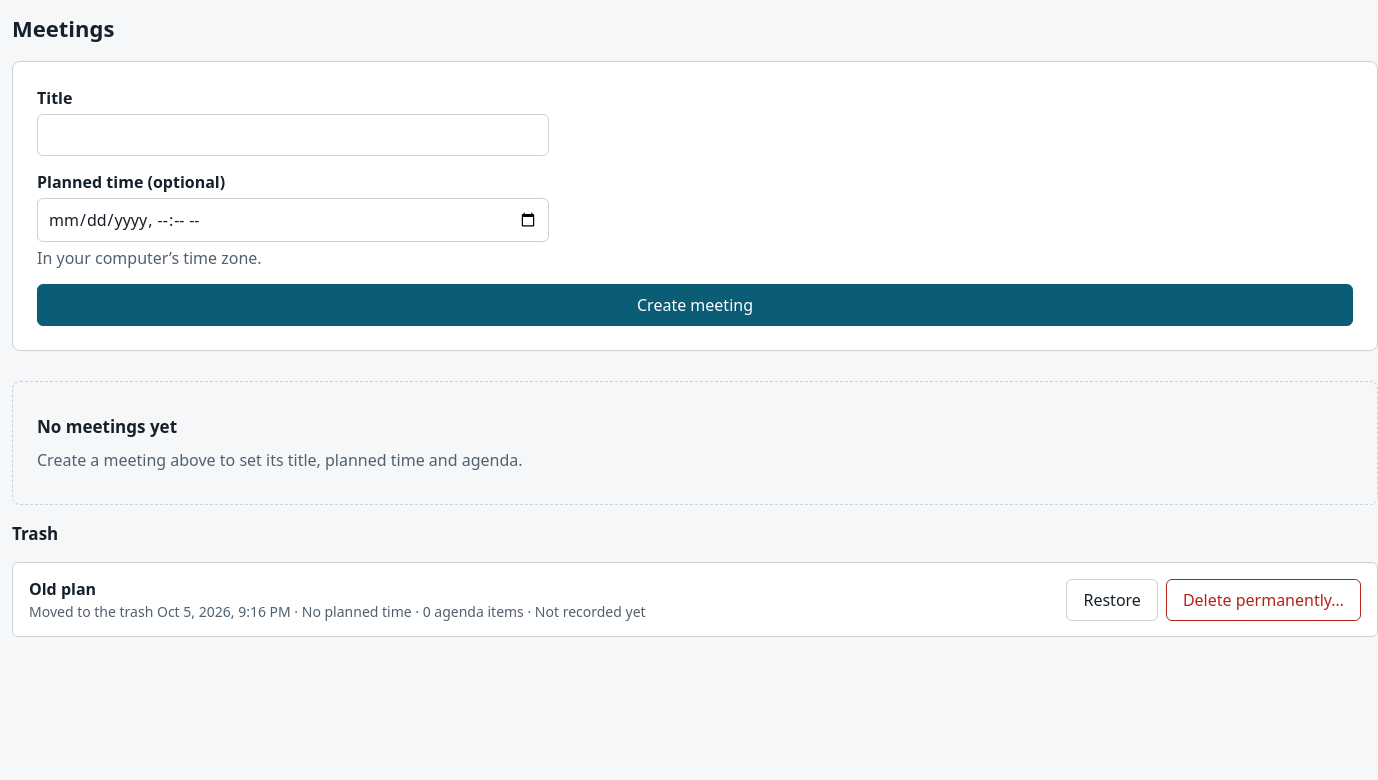
Test case: a meeting in the trash can be restored
Click the button with aria-label "Restore Old plan": (1112, 600) [1066,578,1158,620]
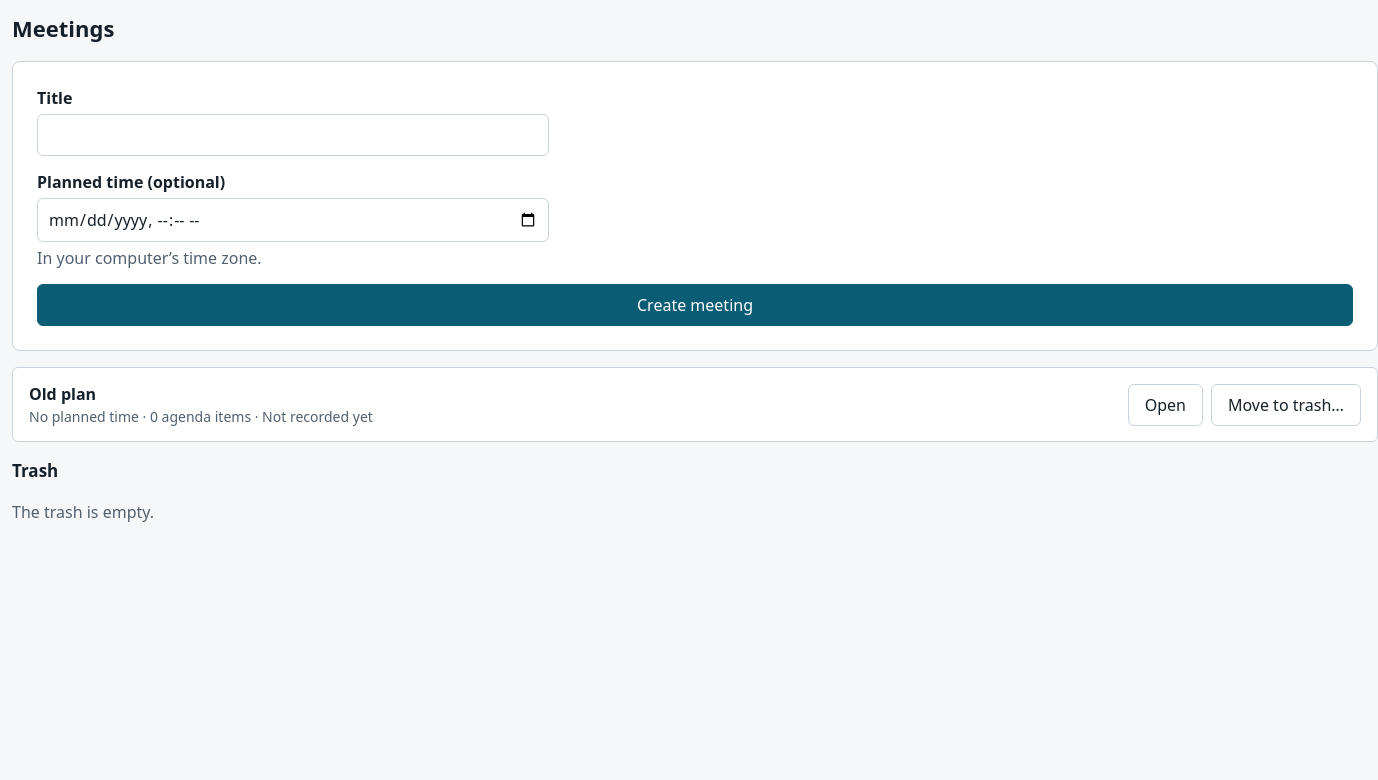
Expected: the list named "Meetings" shows "Old plan", [29,383,96,405]
Expected: the text "The trash is empty." is shown, [12,500,154,522]
